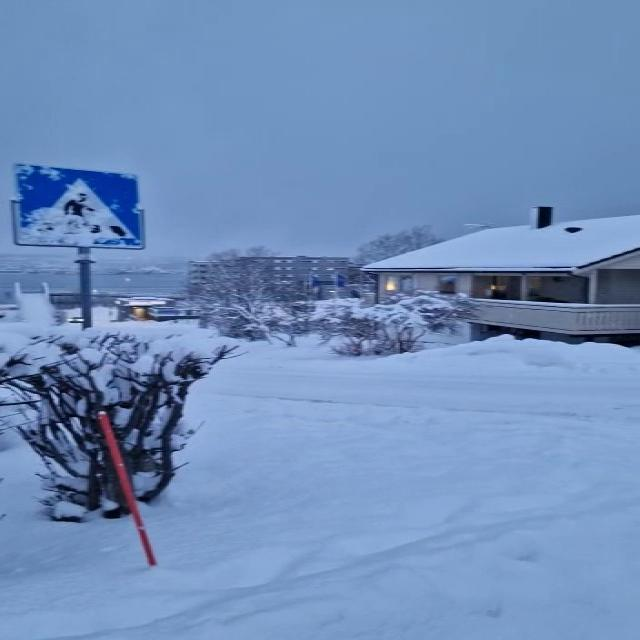path: (197, 355, 640, 428)
